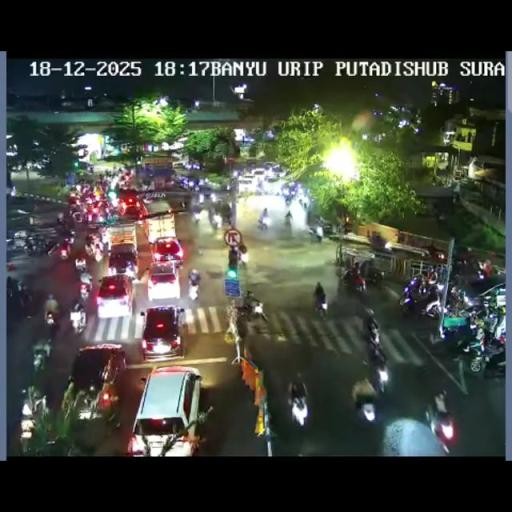Car: (126, 364, 204, 455), (65, 345, 127, 423), (139, 305, 186, 360), (95, 274, 136, 318), (146, 262, 182, 302), (107, 242, 139, 278), (150, 236, 185, 266), (117, 188, 146, 218), (250, 168, 266, 186), (238, 174, 254, 192), (265, 170, 280, 182)
Motorcycle: (462, 330, 504, 374), (399, 278, 442, 320), (439, 312, 478, 348), (19, 389, 41, 448), (426, 401, 456, 444), (367, 348, 390, 394), (339, 268, 366, 295), (290, 390, 310, 426), (482, 290, 506, 320), (67, 300, 87, 335), (446, 285, 470, 314), (23, 234, 52, 257), (354, 396, 377, 424), (246, 296, 268, 325), (31, 344, 51, 374), (234, 310, 249, 340), (45, 310, 61, 338), (18, 288, 34, 312), (363, 268, 383, 287), (6, 275, 21, 300), (78, 276, 92, 302), (68, 201, 84, 223), (314, 294, 328, 319), (102, 202, 120, 221), (366, 326, 381, 348), (422, 268, 438, 288), (57, 239, 72, 260), (234, 248, 248, 270), (187, 278, 200, 301), (256, 214, 270, 230), (490, 264, 506, 278), (308, 225, 321, 242), (203, 176, 218, 190), (176, 175, 192, 188), (74, 255, 86, 272), (223, 209, 233, 226), (209, 212, 218, 230), (342, 218, 352, 234), (299, 195, 309, 209), (193, 211, 201, 226), (476, 268, 486, 280), (284, 194, 292, 208), (284, 212, 292, 226), (103, 239, 110, 255), (256, 182, 264, 195), (196, 242, 203, 256), (198, 192, 204, 203), (210, 193, 216, 202), (180, 200, 186, 209)
